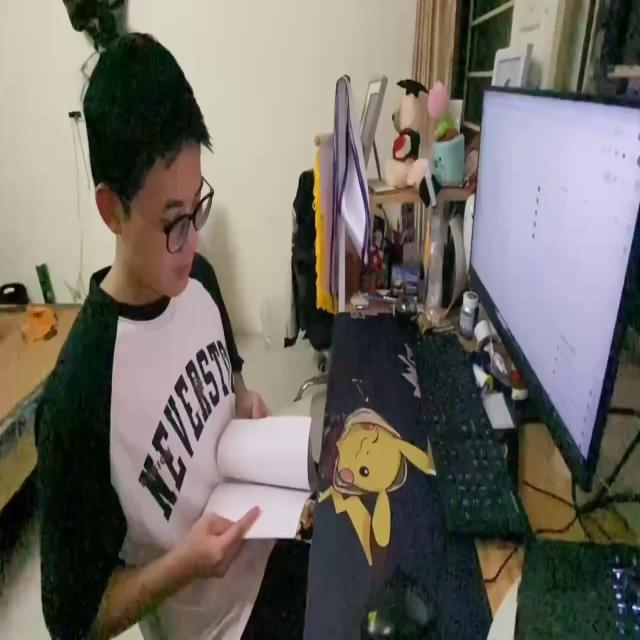book: (206, 409, 316, 545)
laptop: (463, 78, 640, 498)
student: (34, 24, 308, 640)
